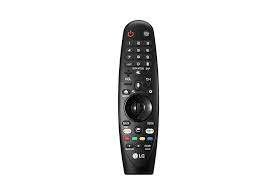remote control: (113, 19, 166, 181)
